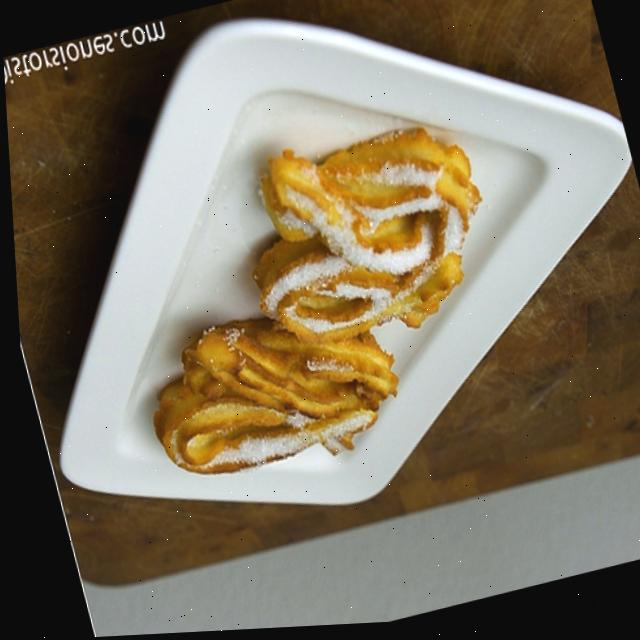炸货点心: (9, 0, 640, 622)
